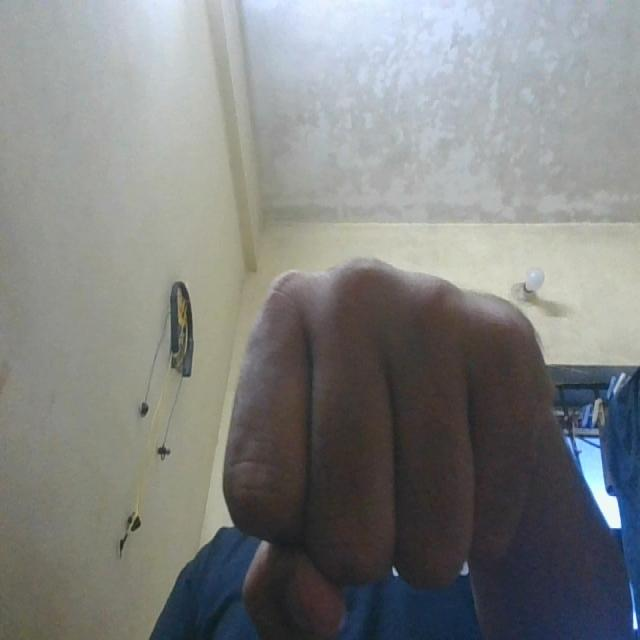Yes: (183, 251, 564, 621)
